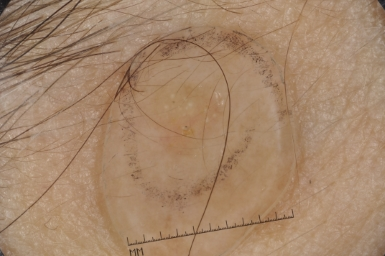seborrheic keratosis: (146, 75, 227, 166)
